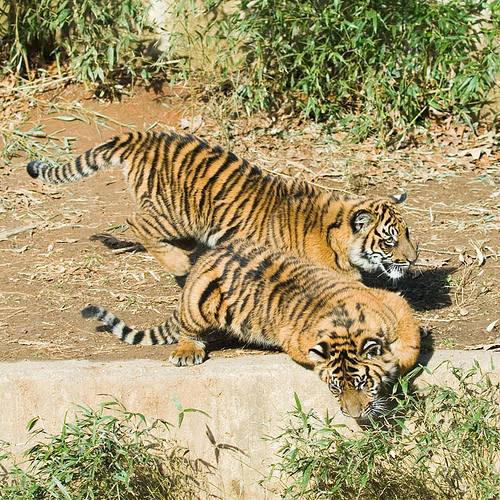Tigre: (107, 124, 422, 289), (189, 250, 406, 429)
